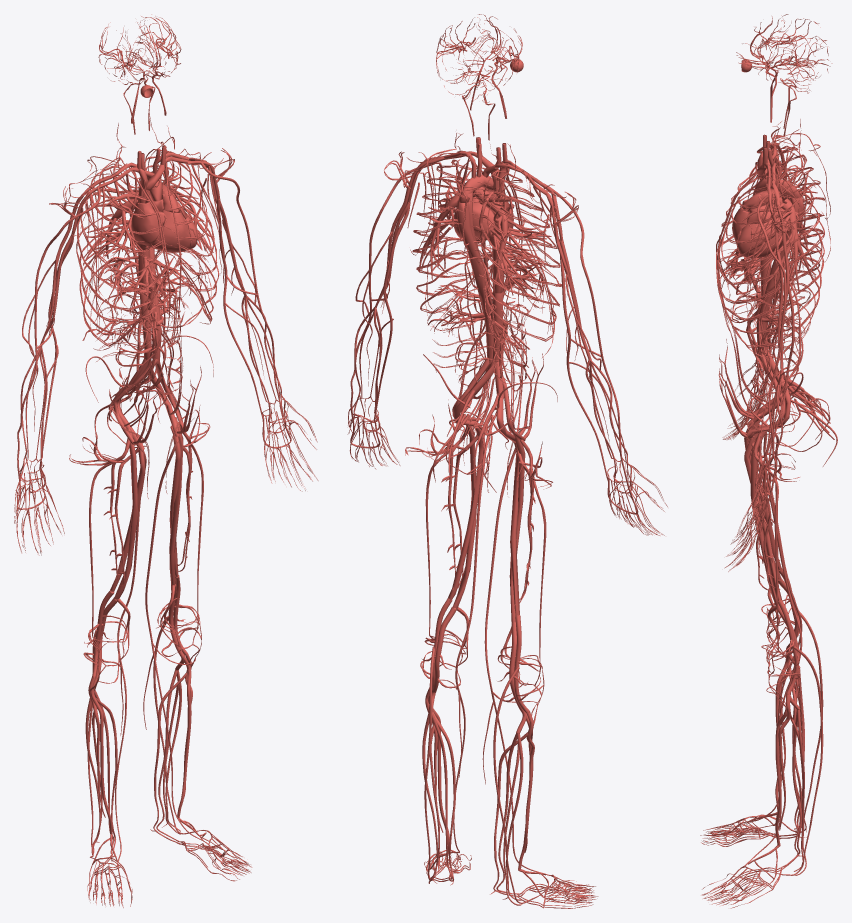
The model's file is cardiovascular.glb.
3 views of the same model, side by side, from view 1: azimuth 30°, elevation 25°; view 2: azimuth 150°, elevation 25°; view 3: azimuth 270°, elevation 25° (orthographic). The views are drawn at different scales.
Parts seen in each view (by area): view 1: FJ1994, FJ1961, FJ2428, FJ2103, FJ1985, FJ2143, FJ2439, FJ2145, FJ2272, FJ2074, FJ2220, FJ1975 (+3 smaller); view 2: FJ1994, FJ1961, FJ2145, FJ1985, FJ2103, FJ1975, FJ3427, FJ2144, FJ2102, FJ2272, FJ2074, FJ2143 (+5 smaller); view 3: FJ1985, FJ1975, FJ2428, FJ2220, FJ2103, FJ2145, FJ2074, FJ2102, FJ2121, FJ1994, FJ2176, FJ1961 (+18 smaller).
Part boxes in pixels (bbox=[...]): FJ1994: bbox=[76, 157, 168, 345]; FJ1961: bbox=[76, 166, 166, 346]; FJ2428: bbox=[150, 209, 198, 252]; FJ2103: bbox=[143, 440, 205, 842]; FJ1985: bbox=[145, 149, 219, 319]; FJ2143: bbox=[113, 427, 138, 599]; FJ2439: bbox=[131, 201, 164, 250]; FJ2145: bbox=[115, 449, 146, 864]; FJ2272: bbox=[17, 187, 100, 480]; FJ2074: bbox=[169, 417, 183, 586]; FJ2220: bbox=[201, 161, 283, 416]; FJ1975: bbox=[140, 156, 218, 320]; FJ1994: bbox=[480, 171, 561, 348]; FJ1961: bbox=[465, 189, 561, 349]; FJ2145: bbox=[482, 448, 549, 875]; FJ1985: bbox=[412, 159, 489, 320]; FJ2103: bbox=[453, 442, 485, 852]; FJ1975: bbox=[412, 179, 481, 326]; FJ3427: bbox=[456, 200, 493, 358]; FJ2144: bbox=[510, 442, 519, 618]; FJ2102: bbox=[447, 430, 483, 601]; FJ2272: bbox=[543, 183, 629, 489]; FJ2074: bbox=[452, 425, 476, 609]; FJ2143: bbox=[509, 435, 525, 623]; FJ1985: bbox=[718, 165, 824, 346]; FJ1975: bbox=[719, 177, 824, 347]; FJ2428: bbox=[732, 206, 782, 258]; FJ2220: bbox=[757, 194, 786, 509]; FJ2103: bbox=[745, 442, 802, 866]; FJ2145: bbox=[745, 425, 802, 822]; FJ2074: bbox=[750, 430, 778, 606]; FJ2102: bbox=[744, 438, 781, 601]; FJ2121: bbox=[782, 646, 823, 875]; FJ1994: bbox=[718, 145, 824, 295]; FJ2176: bbox=[782, 611, 823, 831]; FJ1961: bbox=[721, 155, 824, 297].
Bounding box in the file's own units: 0.6445 × 1.7 × 0.2535.
